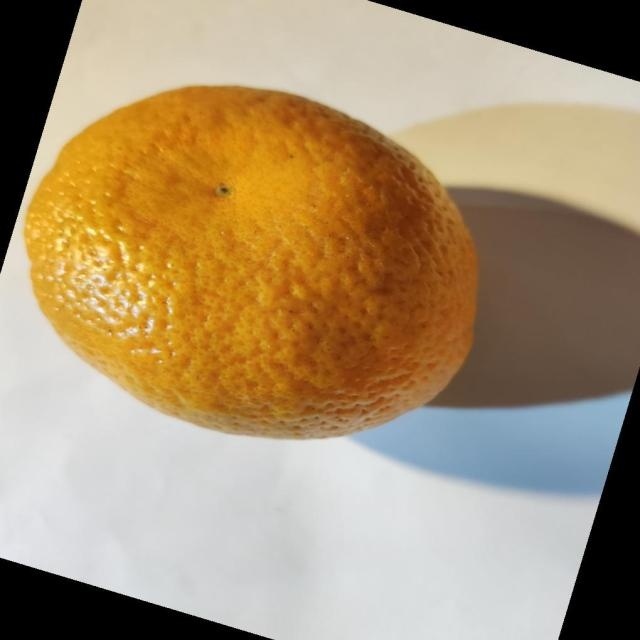agrume: (23, 83, 480, 440)
